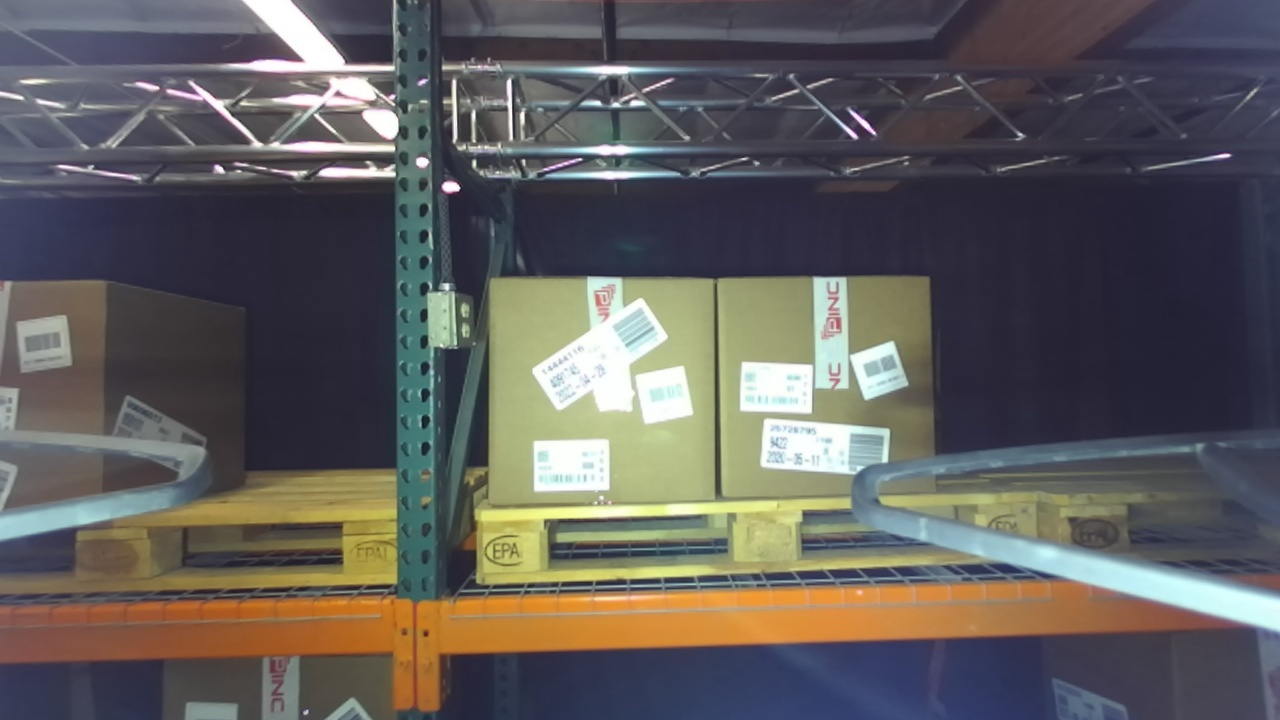box: (469, 244, 738, 547), (691, 250, 965, 522)
